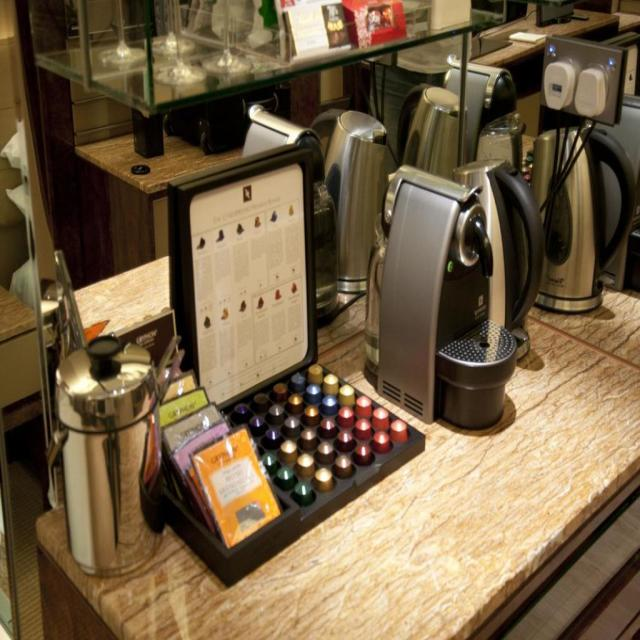Coffee-Machine: (367, 165, 533, 431)
